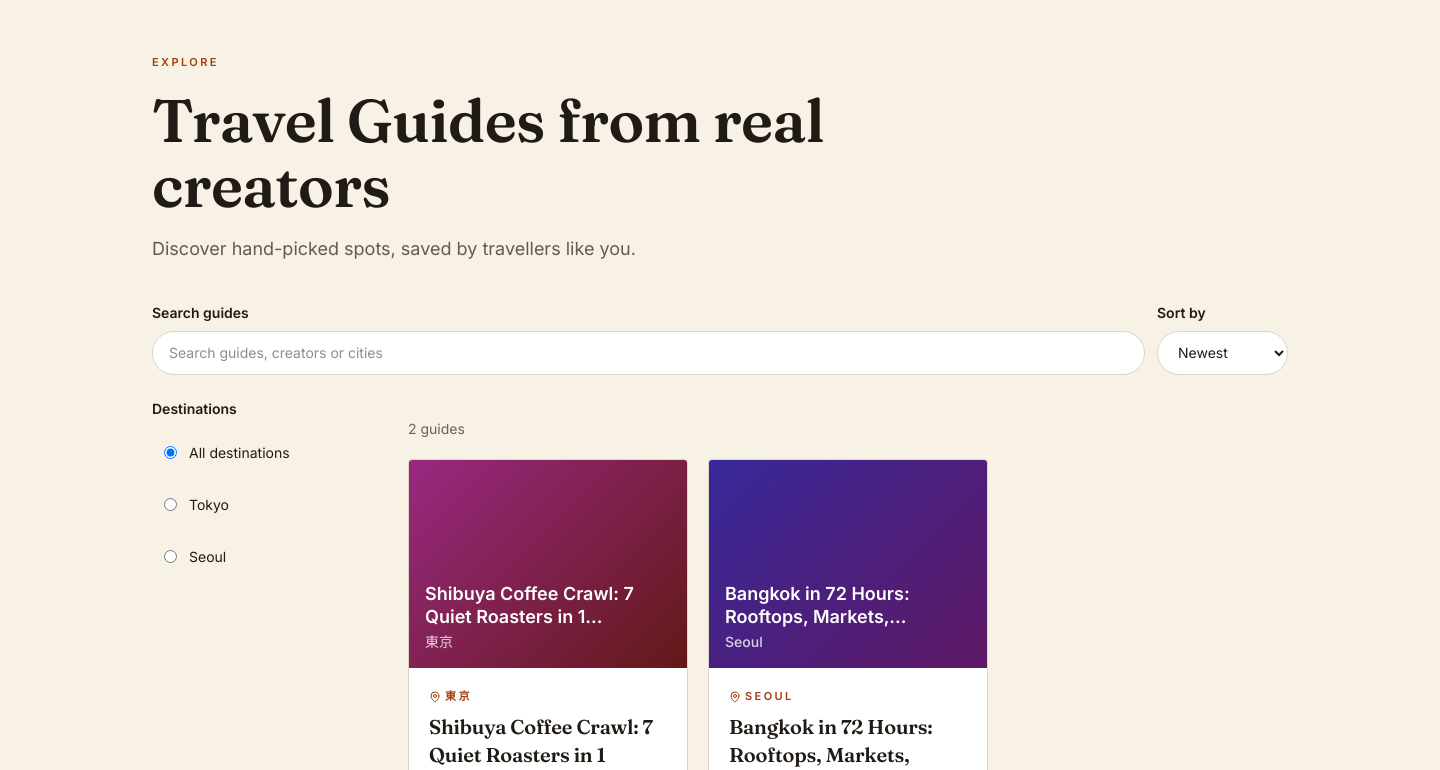
ExploreView › filters by canonical destination and replaces the current URL
Click the radio button labelled "Tokyo" at (170, 505), box top-left (164, 498), bottom-right (177, 511)
(page scrolled)
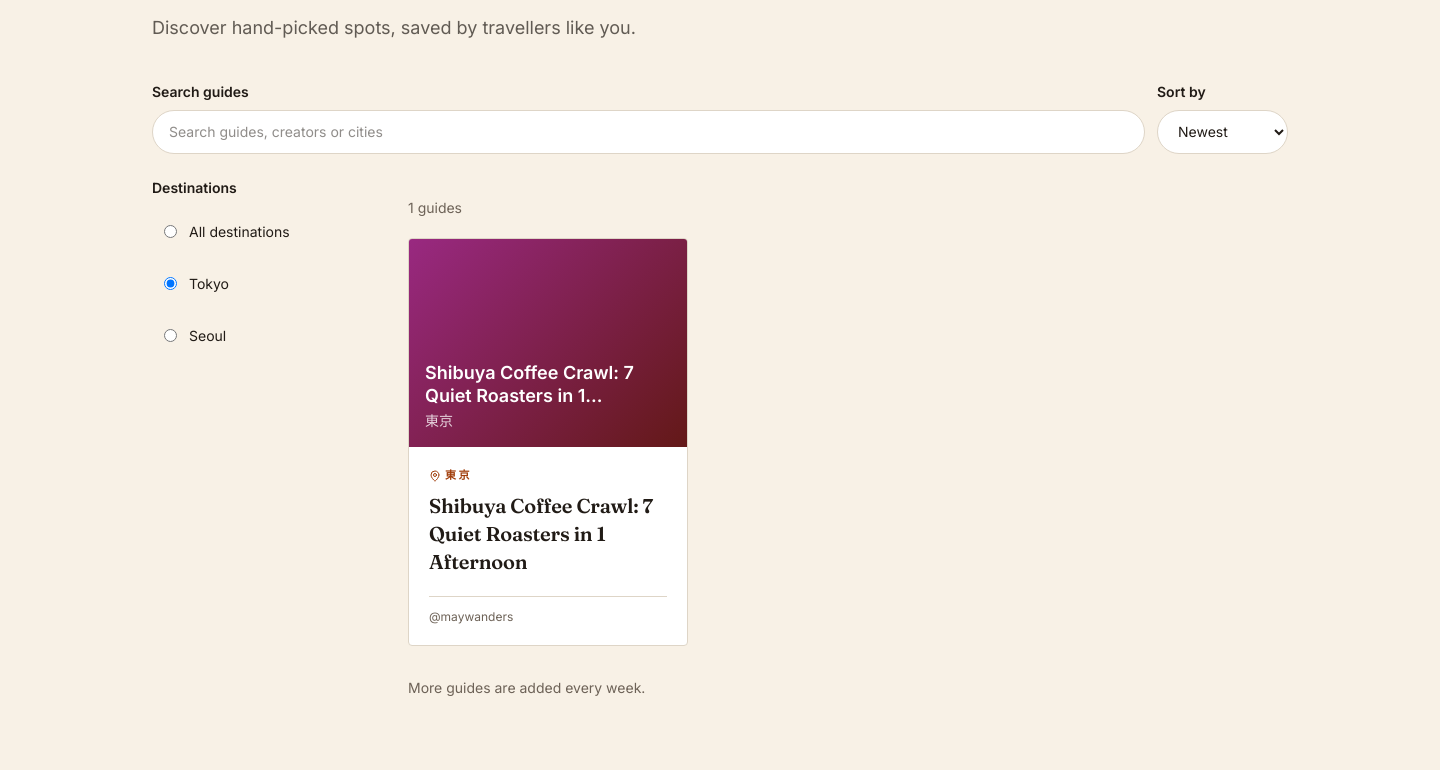
expect the heading "Shibuya Coffee Crawl: 7 Quiet Roasters in 1 Afternoon" is shown: met, box top-left (429, 492), bottom-right (667, 576)
expect the link "Bangkok in 72 Hours: Rooftops, Markets, Massage" is gone: met
